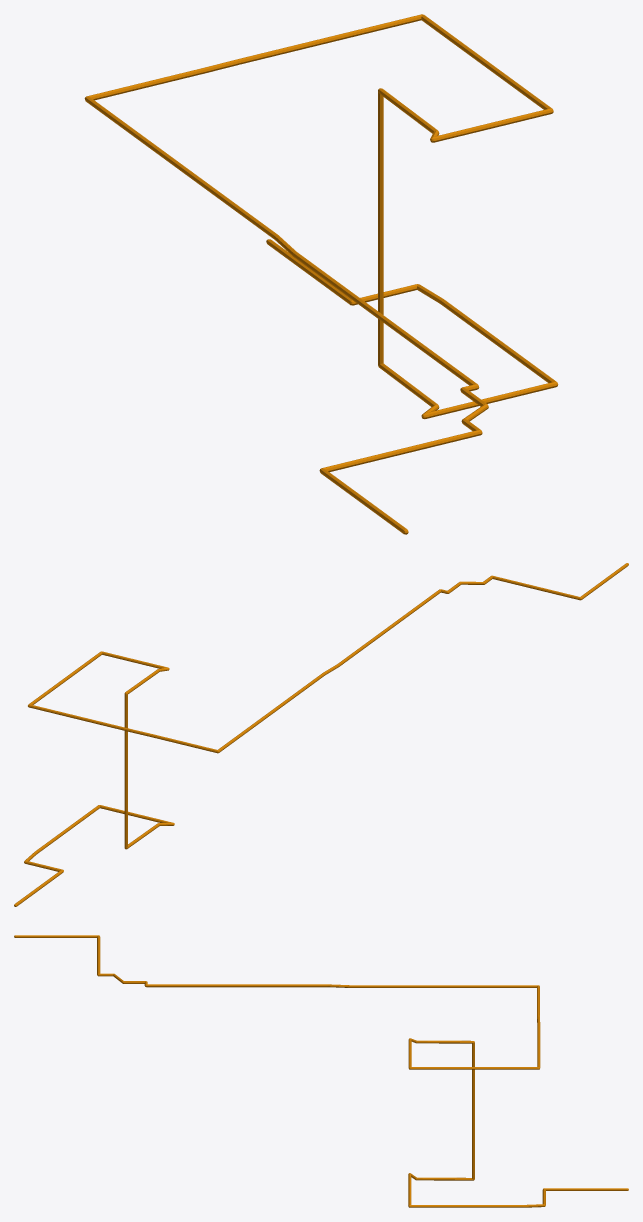
3 renders of one model, top to bottom at view 1: azimuth 30°, elevation 25°; view 2: azimuth 150°, elevation 25°; view 3: azimuth 270°, elevation 25°, orthographic. The views are drawn at different scales.
Size of the model in its own units: 2097 by 1020 by 4068.
